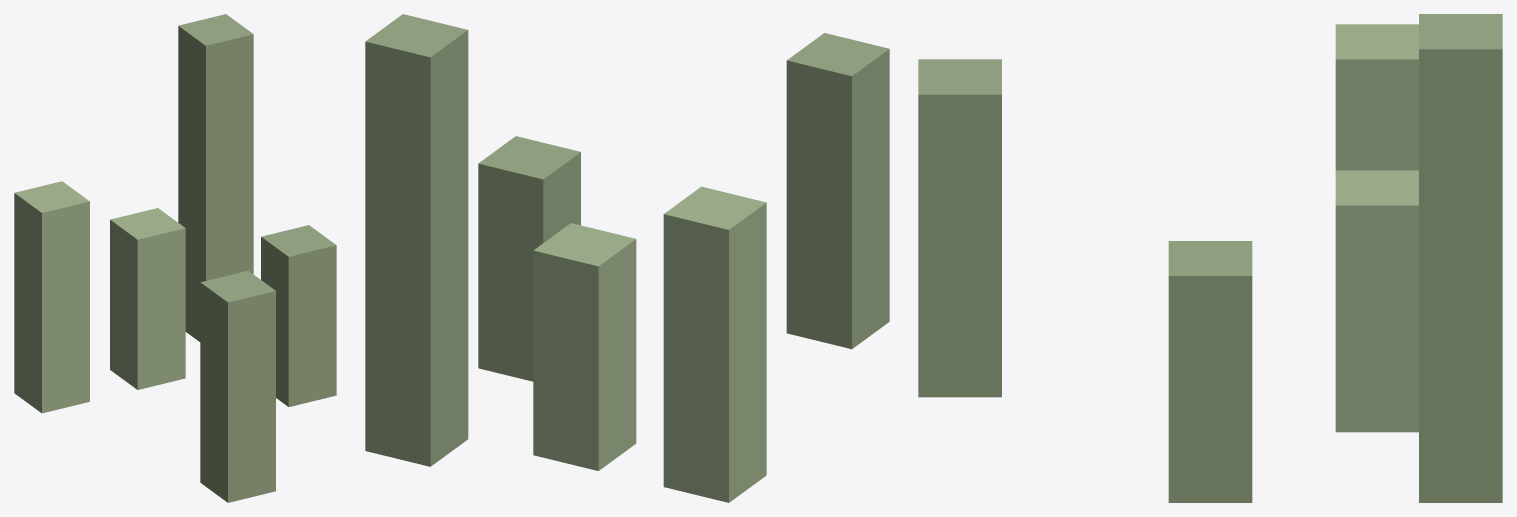
Rendered from hinojo_marino_01.glb.
3 renders of one model, left to right at view 1: azimuth 30°, elevation 25°; view 2: azimuth 150°, elevation 25°; view 3: azimuth 270°, elevation 25°, orthographic. The views are drawn at different scales.
Visible parts, largest first — view 1: hinojo_marino_01; view 2: hinojo_marino_01; view 3: hinojo_marino_01.
Boxes of the visible parts, x1,y1,x2,y2 form: hinojo_marino_01: [14, 14, 336, 502]; hinojo_marino_01: [365, 14, 889, 502]; hinojo_marino_01: [918, 14, 1502, 502].
Bounding box in the file's own units: 0.5 × 0.6 × 0.7.
